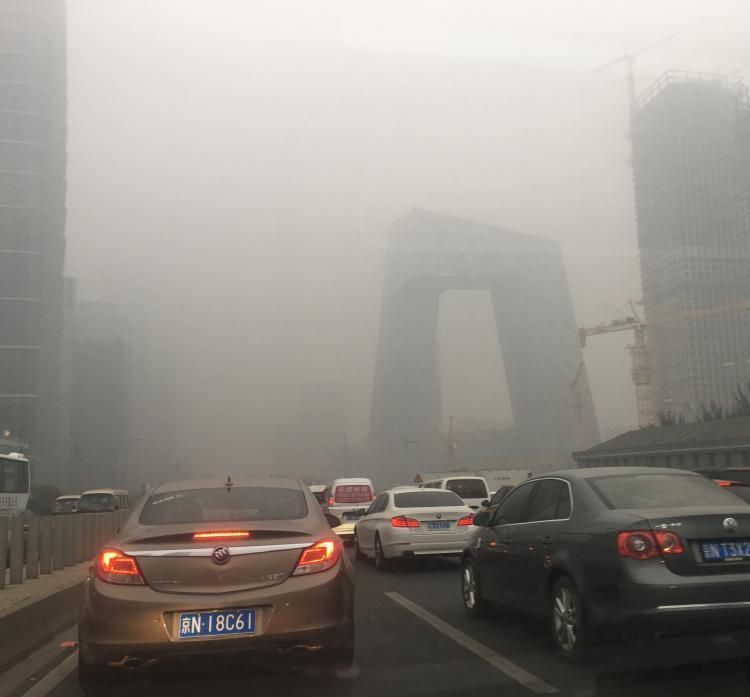bus: (1, 448, 32, 538), (75, 488, 129, 529), (50, 493, 83, 531)
car: (75, 471, 357, 689), (455, 467, 750, 665), (351, 485, 478, 566), (413, 475, 491, 529), (318, 475, 375, 541), (471, 483, 532, 529)
